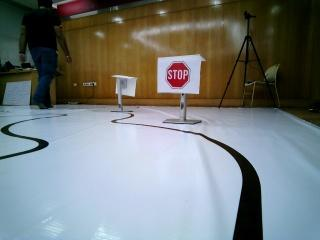stop: (160, 57, 196, 92)
